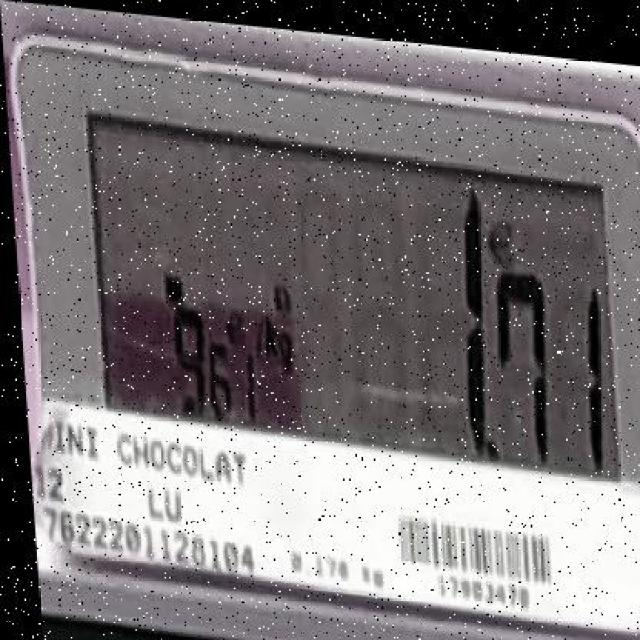display: (88, 114, 618, 482)
frame: (443, 180, 607, 475), (34, 503, 262, 581), (158, 300, 264, 434), (31, 463, 71, 503)
gauge: (0, 0, 640, 640)
